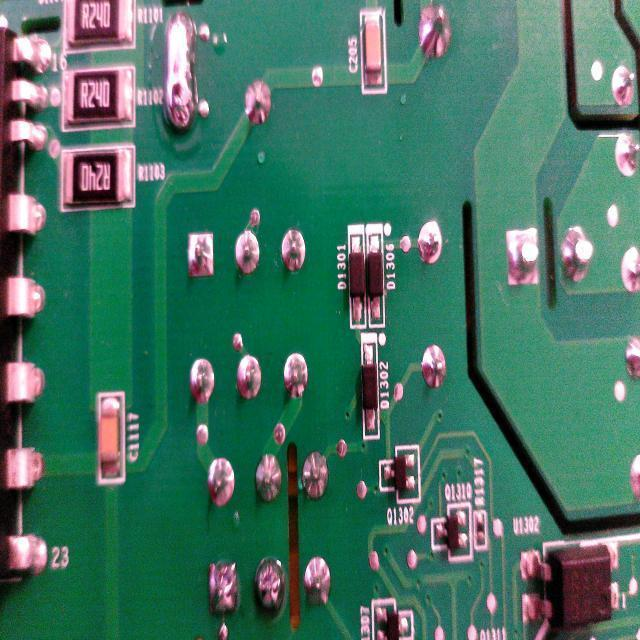Soldering shorted: (158, 5, 200, 146)
